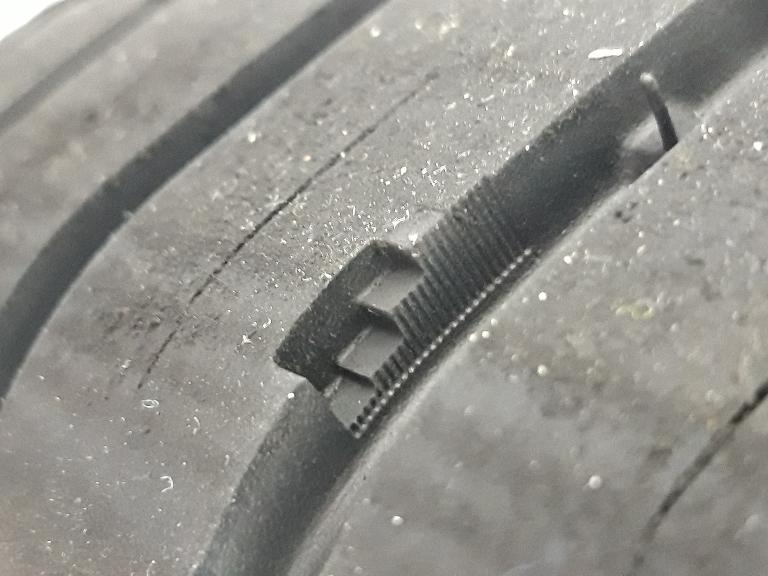temoin:75: (259, 192, 503, 458)
